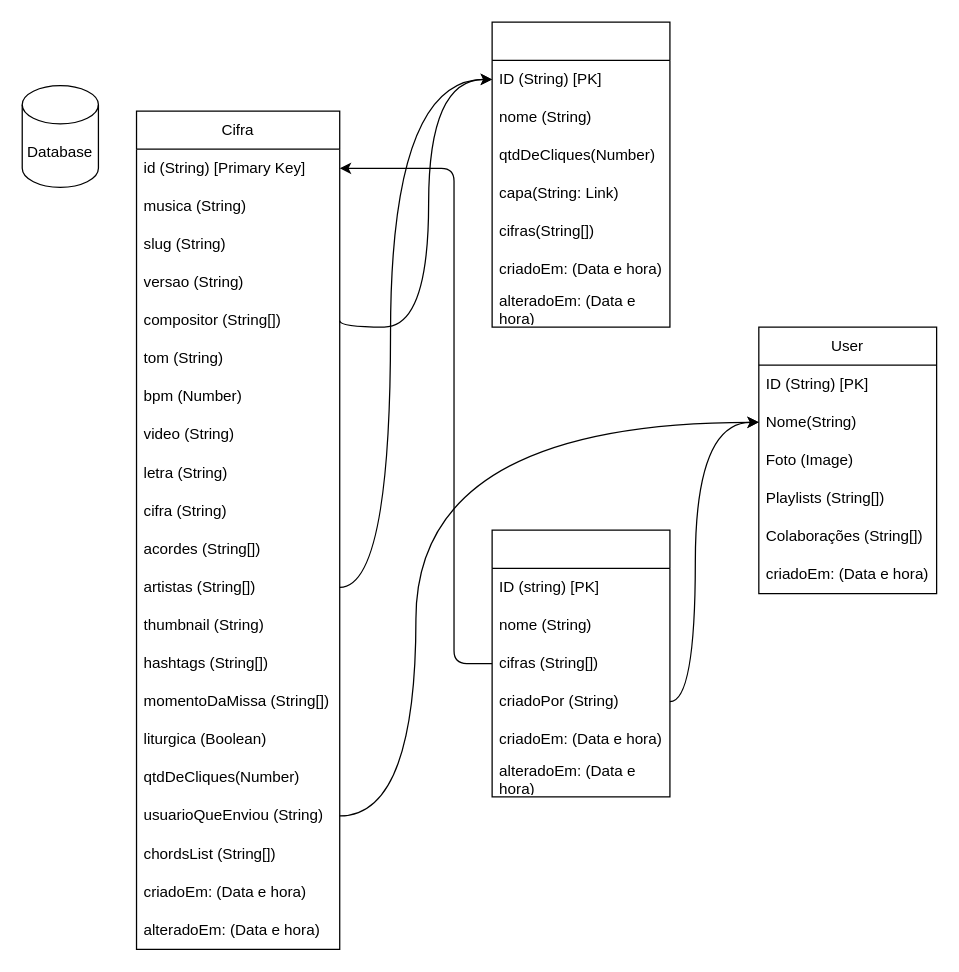
Image size: 959x972. Some labels were removed from this diagram. The shapes that lost their labels are listed below. From the top down, each one's box as (x1, y1, x2, y2) in pixels, then its label:
(491, 21, 670, 327): Artista
(491, 529, 670, 797): Playlist
